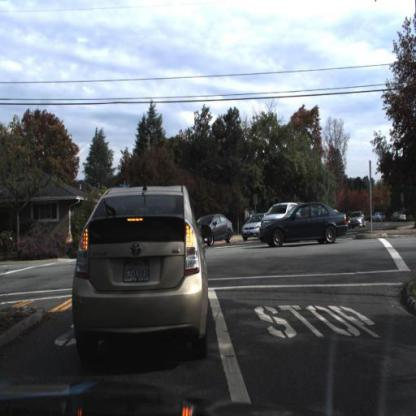car: (71, 187, 213, 359), (259, 200, 350, 245), (262, 203, 305, 239), (347, 211, 368, 231)
